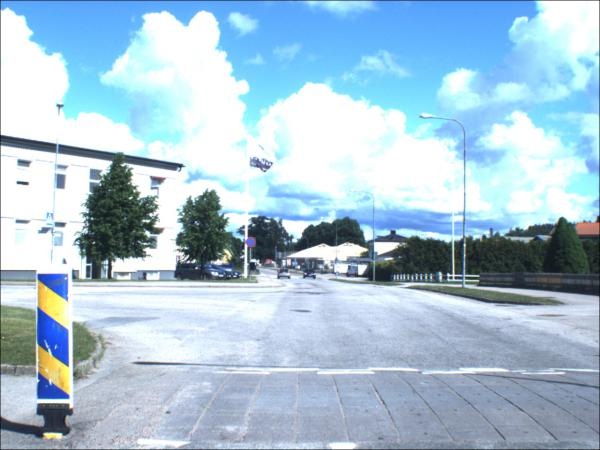NO_PARKING: (246, 238, 257, 249)
PEDESTRIAN_CROSSING: (46, 213, 54, 227)
